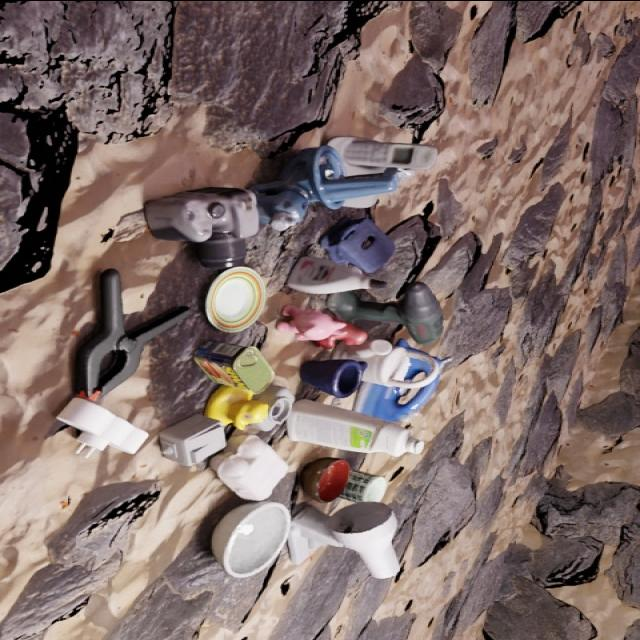Other Objects: (75, 267, 189, 400), (144, 186, 259, 266), (212, 499, 291, 576), (57, 396, 149, 455), (211, 430, 288, 498), (196, 339, 275, 392), (205, 265, 267, 331), (277, 304, 368, 347), (287, 255, 385, 292), (160, 412, 225, 465), (205, 384, 269, 428), (301, 358, 367, 396), (300, 456, 351, 500), (251, 383, 295, 429), (195, 230, 247, 267), (203, 186, 244, 194)
